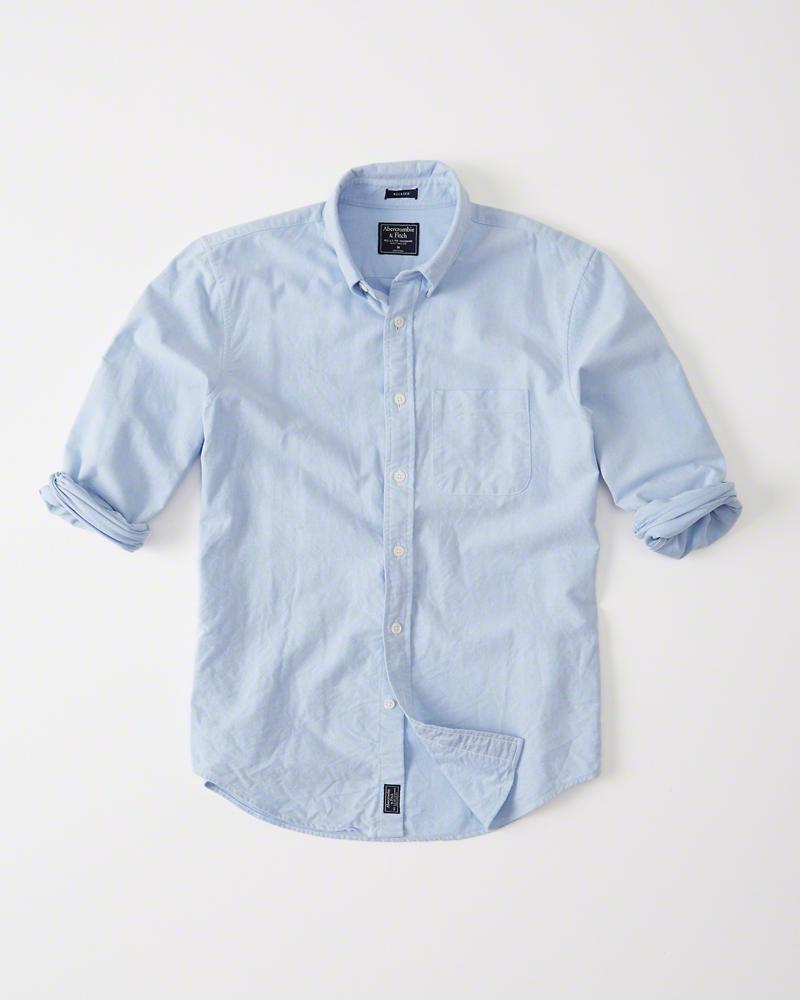teeshirt: (32, 150, 744, 866)
